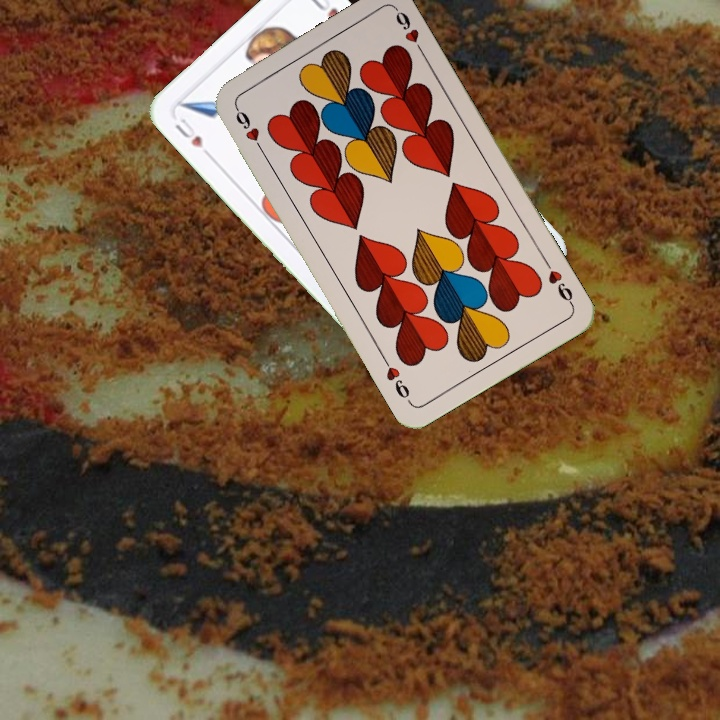H9: (230, 102, 267, 155), (540, 255, 576, 309)
HU: (171, 114, 206, 151)
